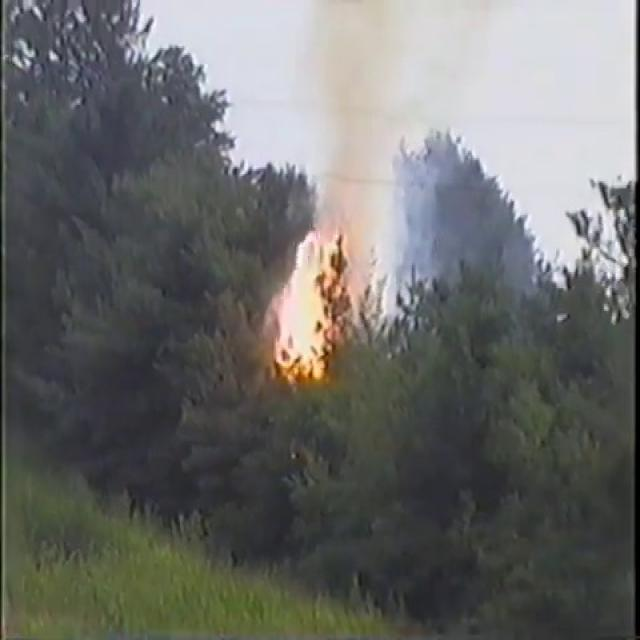Fire: (268, 210, 379, 384)
Smoke: (292, 0, 434, 228)
